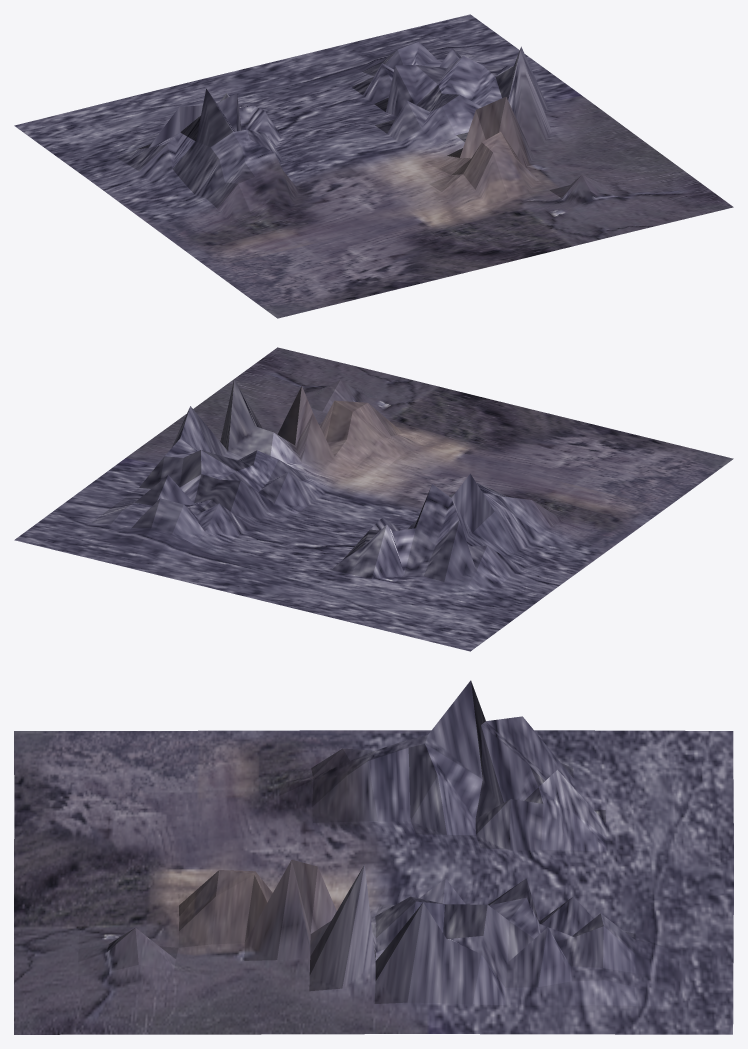
File: terrain1.glb
The picture shows the model from 3 angles, top to bottom: view 1: azimuth 30°, elevation 25°; view 2: azimuth 150°, elevation 25°; view 3: azimuth 270°, elevation 25°; orthographic projection. The views are drawn at different scales.
Parts seen in each view (by area): view 1: Plane; view 2: Plane; view 3: Plane.
Part boxes in pixels (<box>): Plane: <box>14,14,733,318</box>; Plane: <box>14,347,733,651</box>; Plane: <box>14,680,733,1034</box>.
Bounding box in the file's own units: 100 × 17.66 × 100.
Materials: 1 (1 with a texture image).
